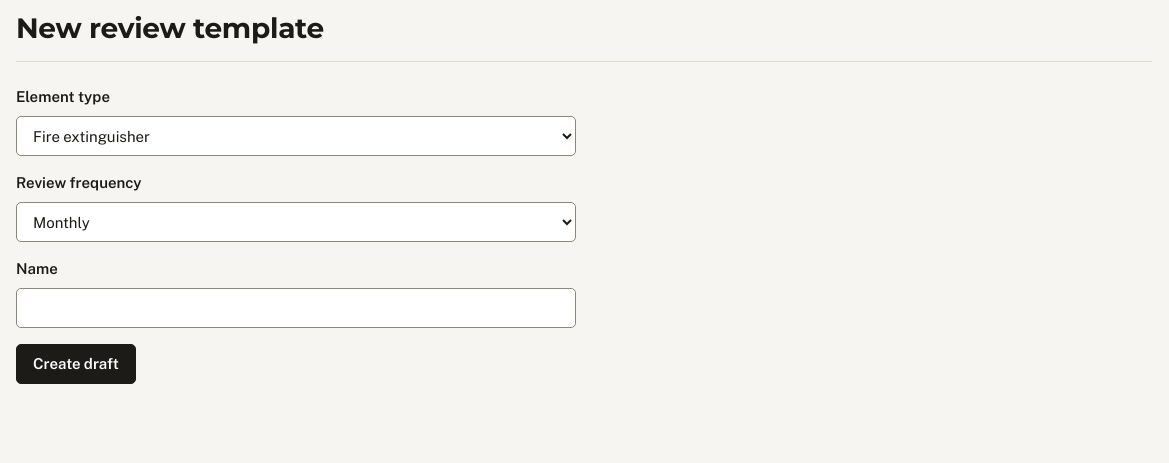
Test: ReviewTemplateCreatePage › blocks submission client-side and shows a validation error on an empty name
Click the button with test id "review-template-create-submit". click: {"x": 76, "y": 364}
box: [16, 344, 136, 384]
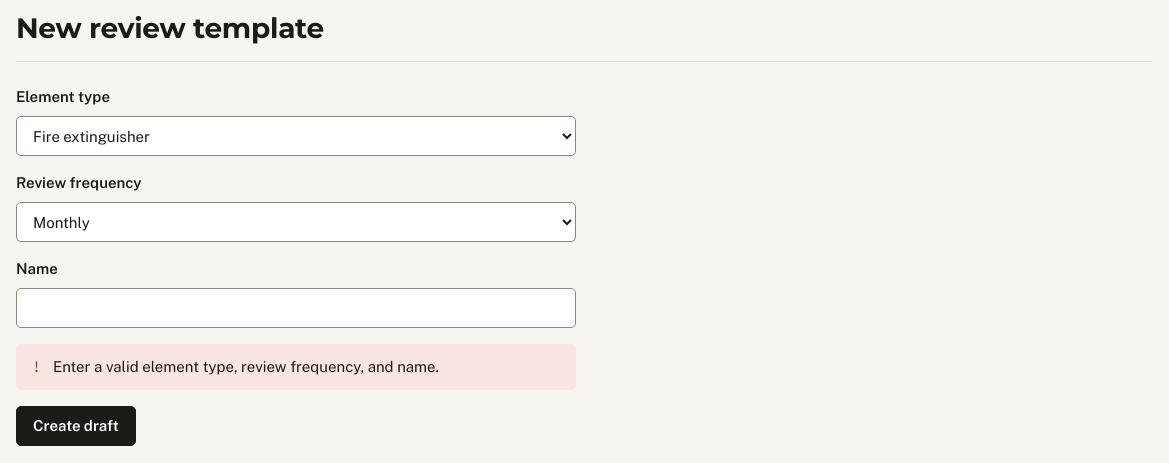
Check: the message "! Enter a valid element type, review frequency, and name." is shown, box [16, 344, 576, 390]
